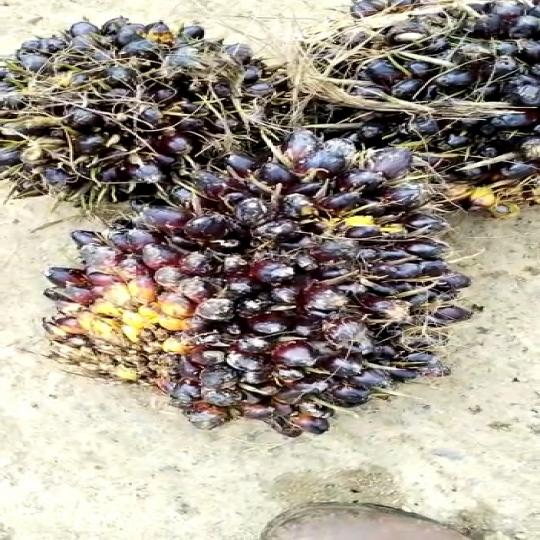mentah: (42, 134, 470, 448), (0, 16, 303, 199), (282, 0, 538, 216)
